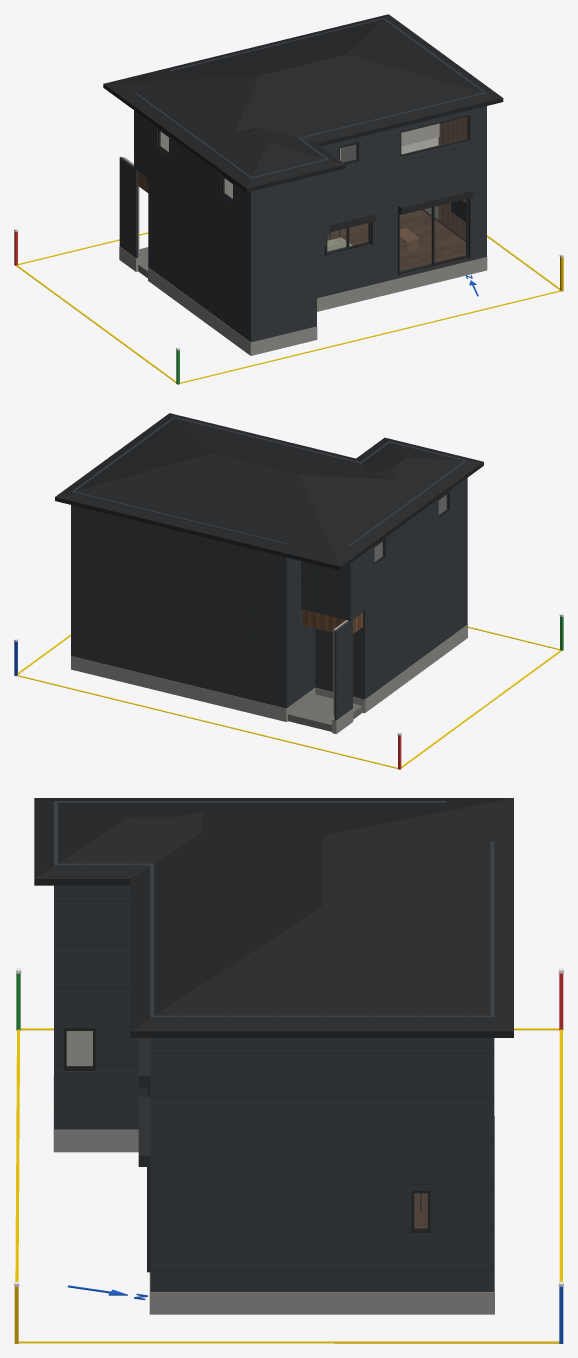
3 renders of one model, top to bottom at view 1: azimuth 30°, elevation 25°; view 2: azimuth 150°, elevation 25°; view 3: azimuth 270°, elevation 25°, orthographic. The views are drawn at different scales.
Visible parts, largest first — view 1: siding, roof, glass, found, floor, frame, shutter, lotline, wall, accent; view 2: siding, roof, found, lotline, tile, woodceil, wall; view 3: siding, roof, found, lotline, shutter, glass, wall, frame.
Part boxes in pixels (box(x1,y1,x2,y2)): siding: box(119, 18, 486, 342); roof: box(103, 14, 503, 192); glass: box(160, 117, 467, 271); found: box(119, 246, 487, 355); floor: box(327, 210, 465, 270); frame: box(158, 115, 469, 274); shutter: box(325, 188, 473, 275); lotline: box(16, 232, 560, 383); wall: box(123, 123, 439, 253); accent: box(438, 116, 467, 239); siding: box(71, 417, 467, 720); roof: box(55, 413, 483, 570); found: box(71, 624, 467, 733); lotline: box(17, 626, 561, 768); tile: box(288, 694, 362, 731); woodceil: box(302, 609, 362, 633); wall: box(333, 495, 446, 715); siding: box(54, 801, 494, 1291); roof: box(34, 798, 513, 1037); found: box(53, 1076, 494, 1314); lotline: box(15, 1028, 562, 1343); shutter: box(138, 1038, 150, 1272); glass: box(67, 1031, 427, 1227); wall: box(66, 1031, 92, 1065); frame: box(64, 1028, 430, 1233).
Bounding box in the file's own units: 14.14 × 7.01 × 10.42.
Materials: 31 (6 with a texture image).
